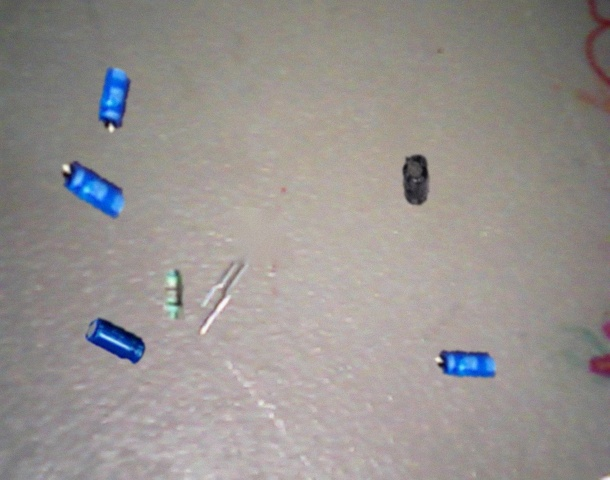capacitor: (62, 161, 125, 219), (85, 318, 146, 364), (98, 67, 132, 133), (434, 350, 496, 378), (402, 154, 430, 205)
resistor: (163, 269, 185, 319)
